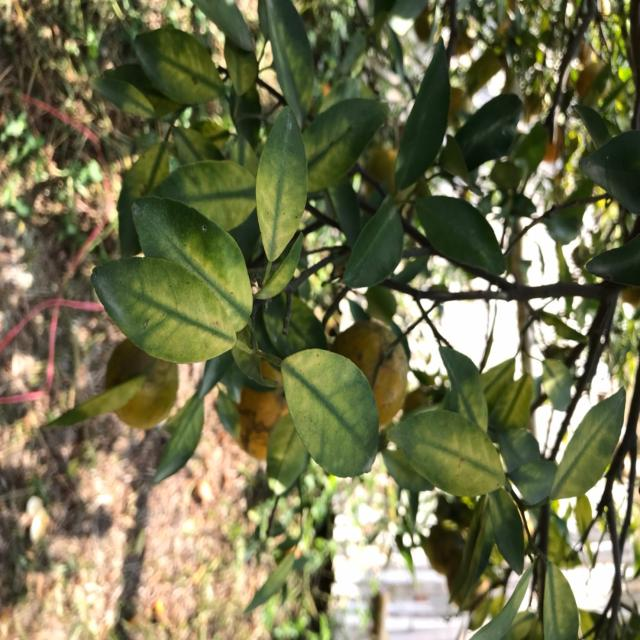blackspot: (94, 260, 236, 366), (285, 344, 374, 472), (388, 410, 502, 502), (248, 115, 314, 256)
